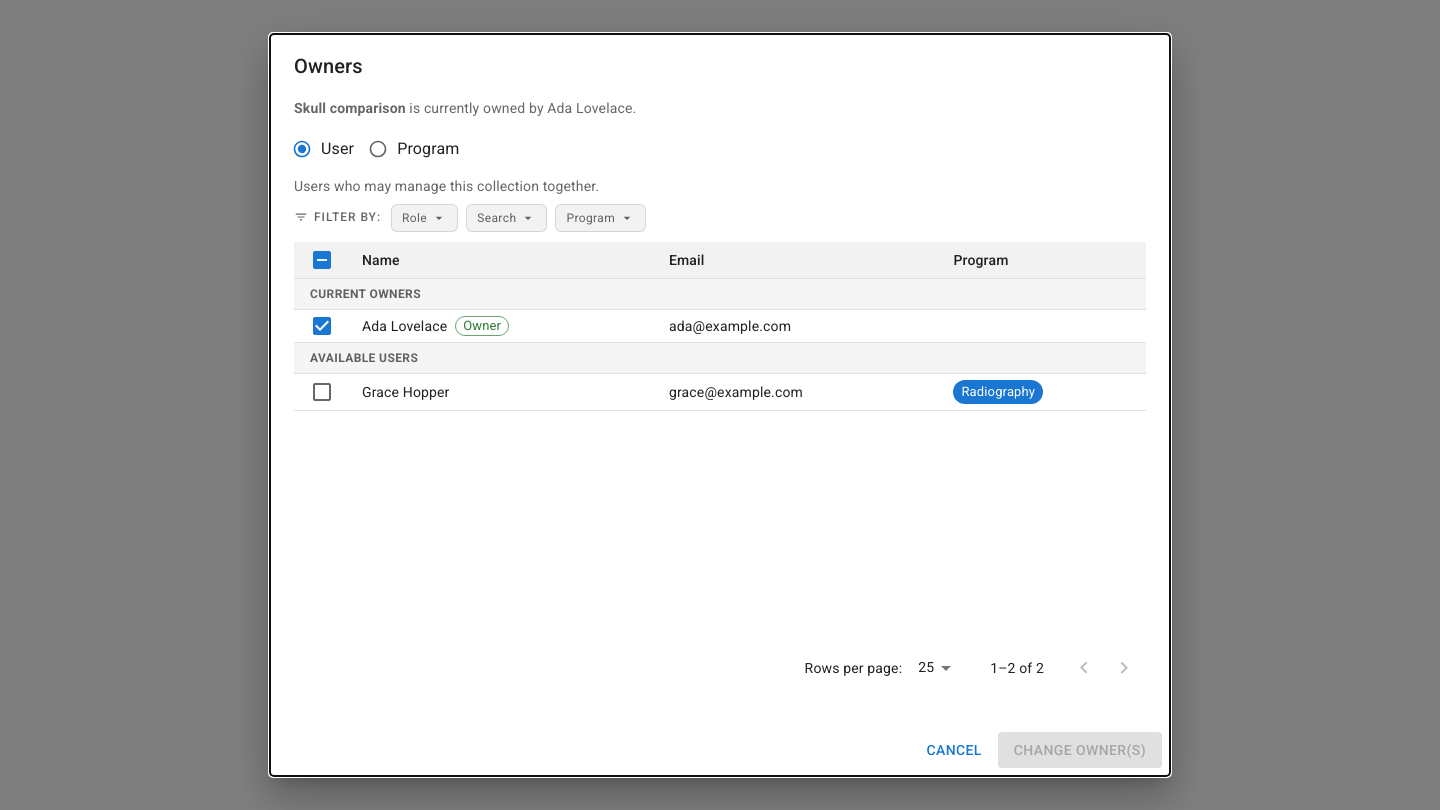
it: CollectionOwnersDialog (#1531) › narrows the program chips to the instructor’s own programs
Click the radio button labelled "Program" at (414, 149), box [368,139,460,159]
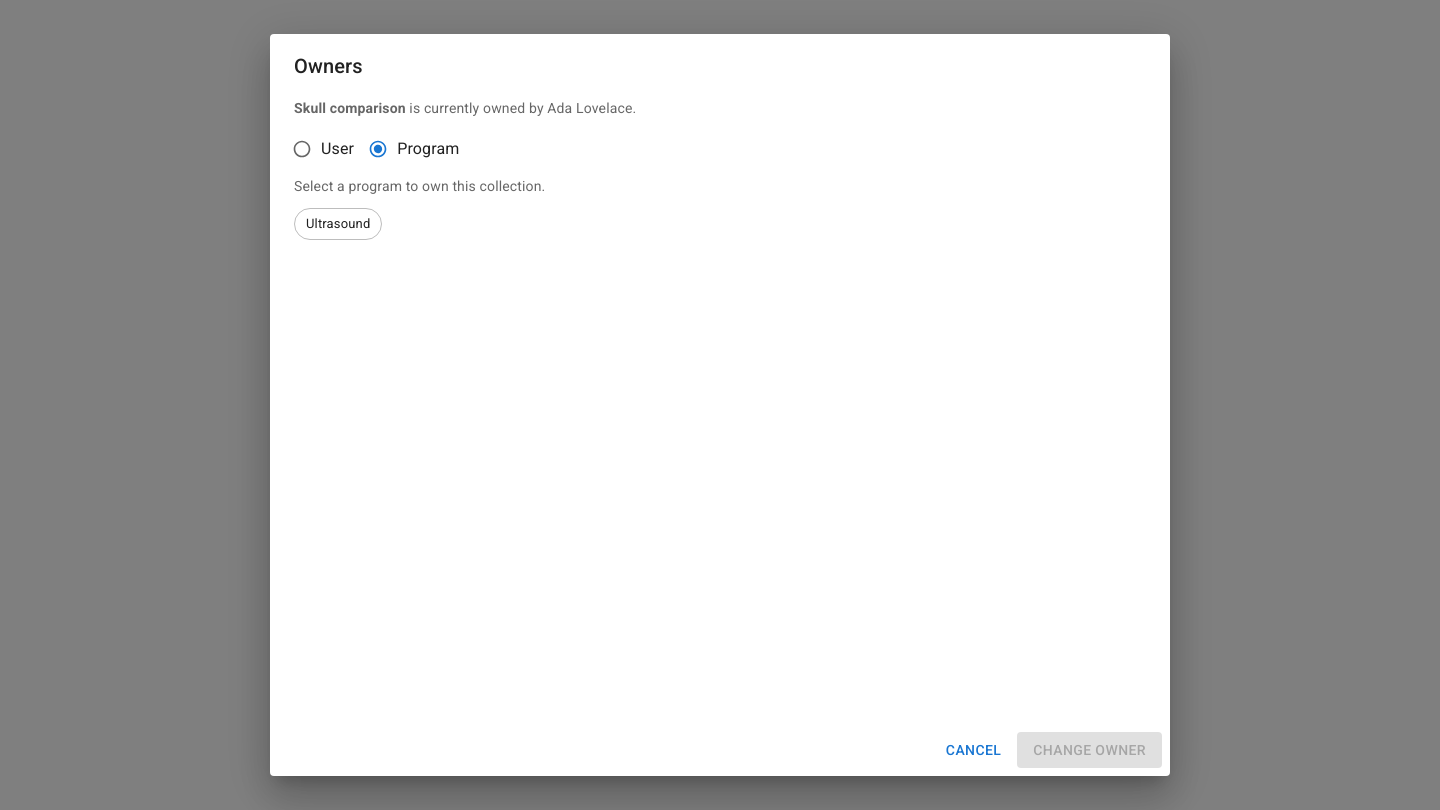
Expected: the button with test id "program-choice-2" is shown, [294,208,382,240]
